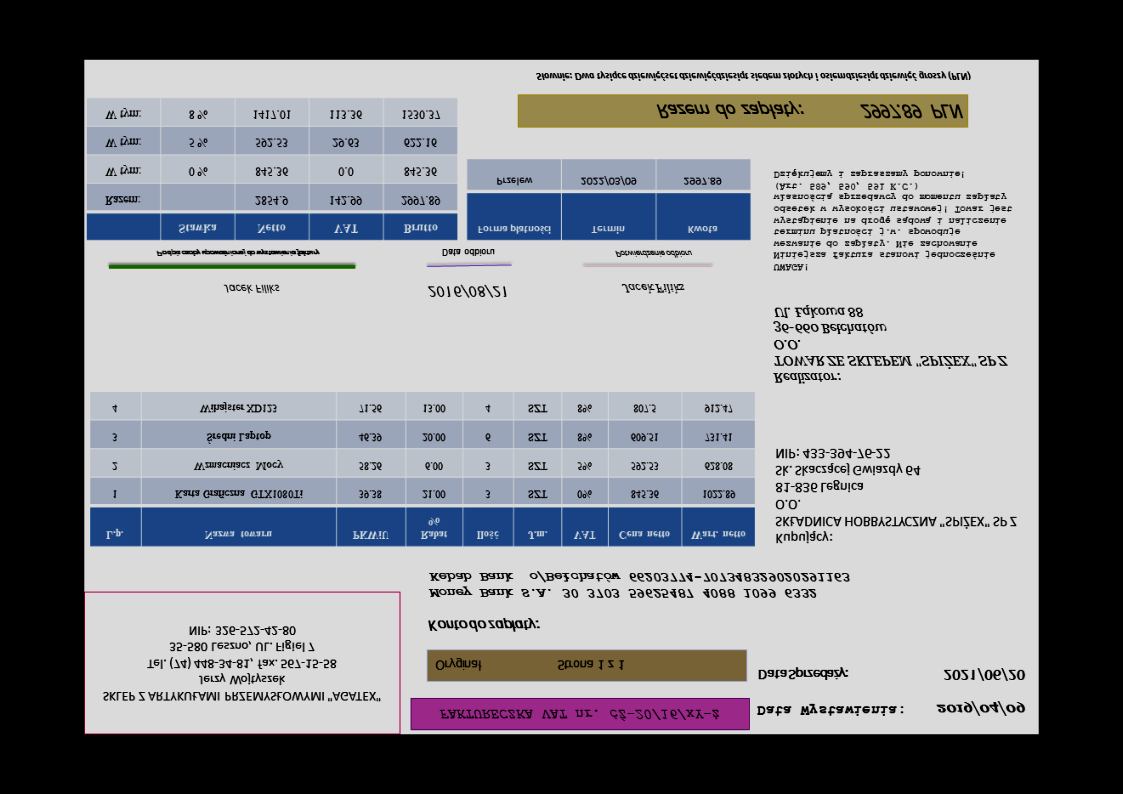Table: (88, 390, 757, 549), (85, 96, 459, 242), (465, 158, 752, 243)
TextBox: (772, 443, 1022, 548), (770, 168, 1015, 275), (99, 622, 383, 706), (770, 303, 1011, 387), (426, 569, 852, 602), (533, 67, 974, 85), (653, 99, 965, 123), (437, 706, 723, 723), (433, 655, 627, 675), (754, 702, 905, 720), (154, 245, 321, 261), (424, 615, 542, 637), (754, 664, 850, 684), (423, 281, 509, 302), (933, 699, 1029, 717), (942, 665, 1025, 684), (618, 280, 687, 298), (611, 247, 695, 261), (221, 281, 283, 298), (440, 247, 496, 259)
